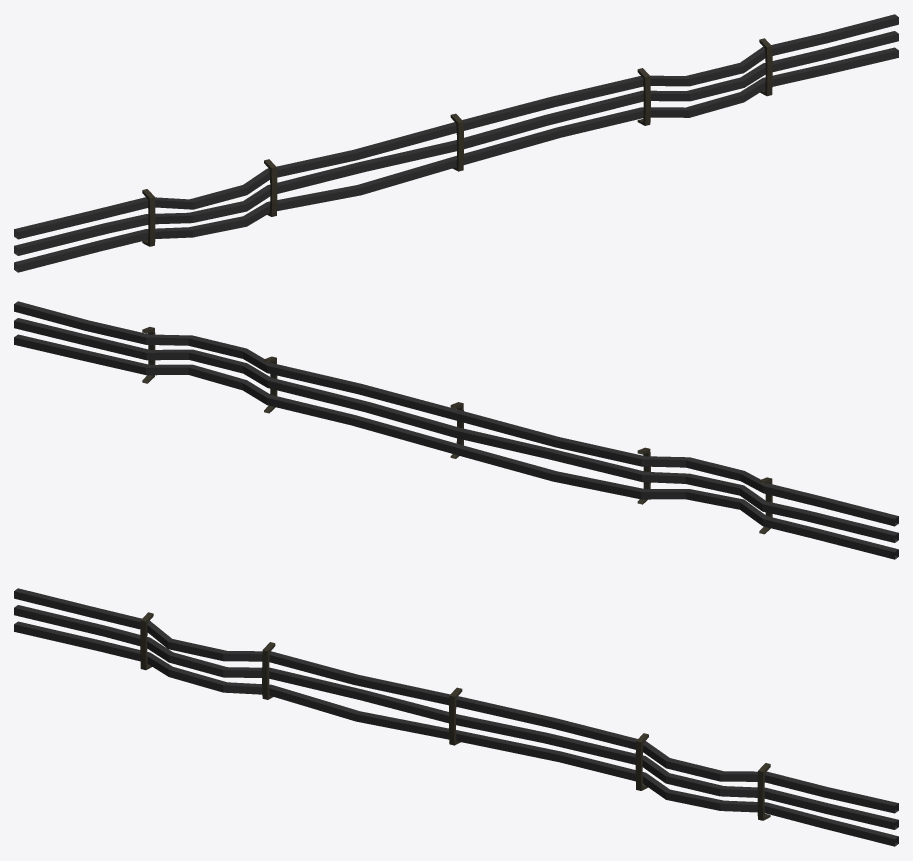
Rendered from SW_ENV_Wires3_RailTunnelWall_02_05m.fbx.
3 views of the same model, one above another, from view 1: azimuth 30°, elevation 25°; view 2: azimuth 150°, elevation 25°; view 3: azimuth 330°, elevation 25° (orthographic).
Visible parts, largest first — view 1: SW_ENV_Wires3_RailTunnelWall_02_05m; view 2: SW_ENV_Wires3_RailTunnelWall_02_05m; view 3: SW_ENV_Wires3_RailTunnelWall_02_05m.
Part boxes in pixels (x1,y1,x2,y2): SW_ENV_Wires3_RailTunnelWall_02_05m: [14, 14, 898, 272]; SW_ENV_Wires3_RailTunnelWall_02_05m: [14, 301, 898, 559]; SW_ENV_Wires3_RailTunnelWall_02_05m: [14, 588, 898, 846].
Size of the model in its own units: 500 by 28.85 by 15.39.
